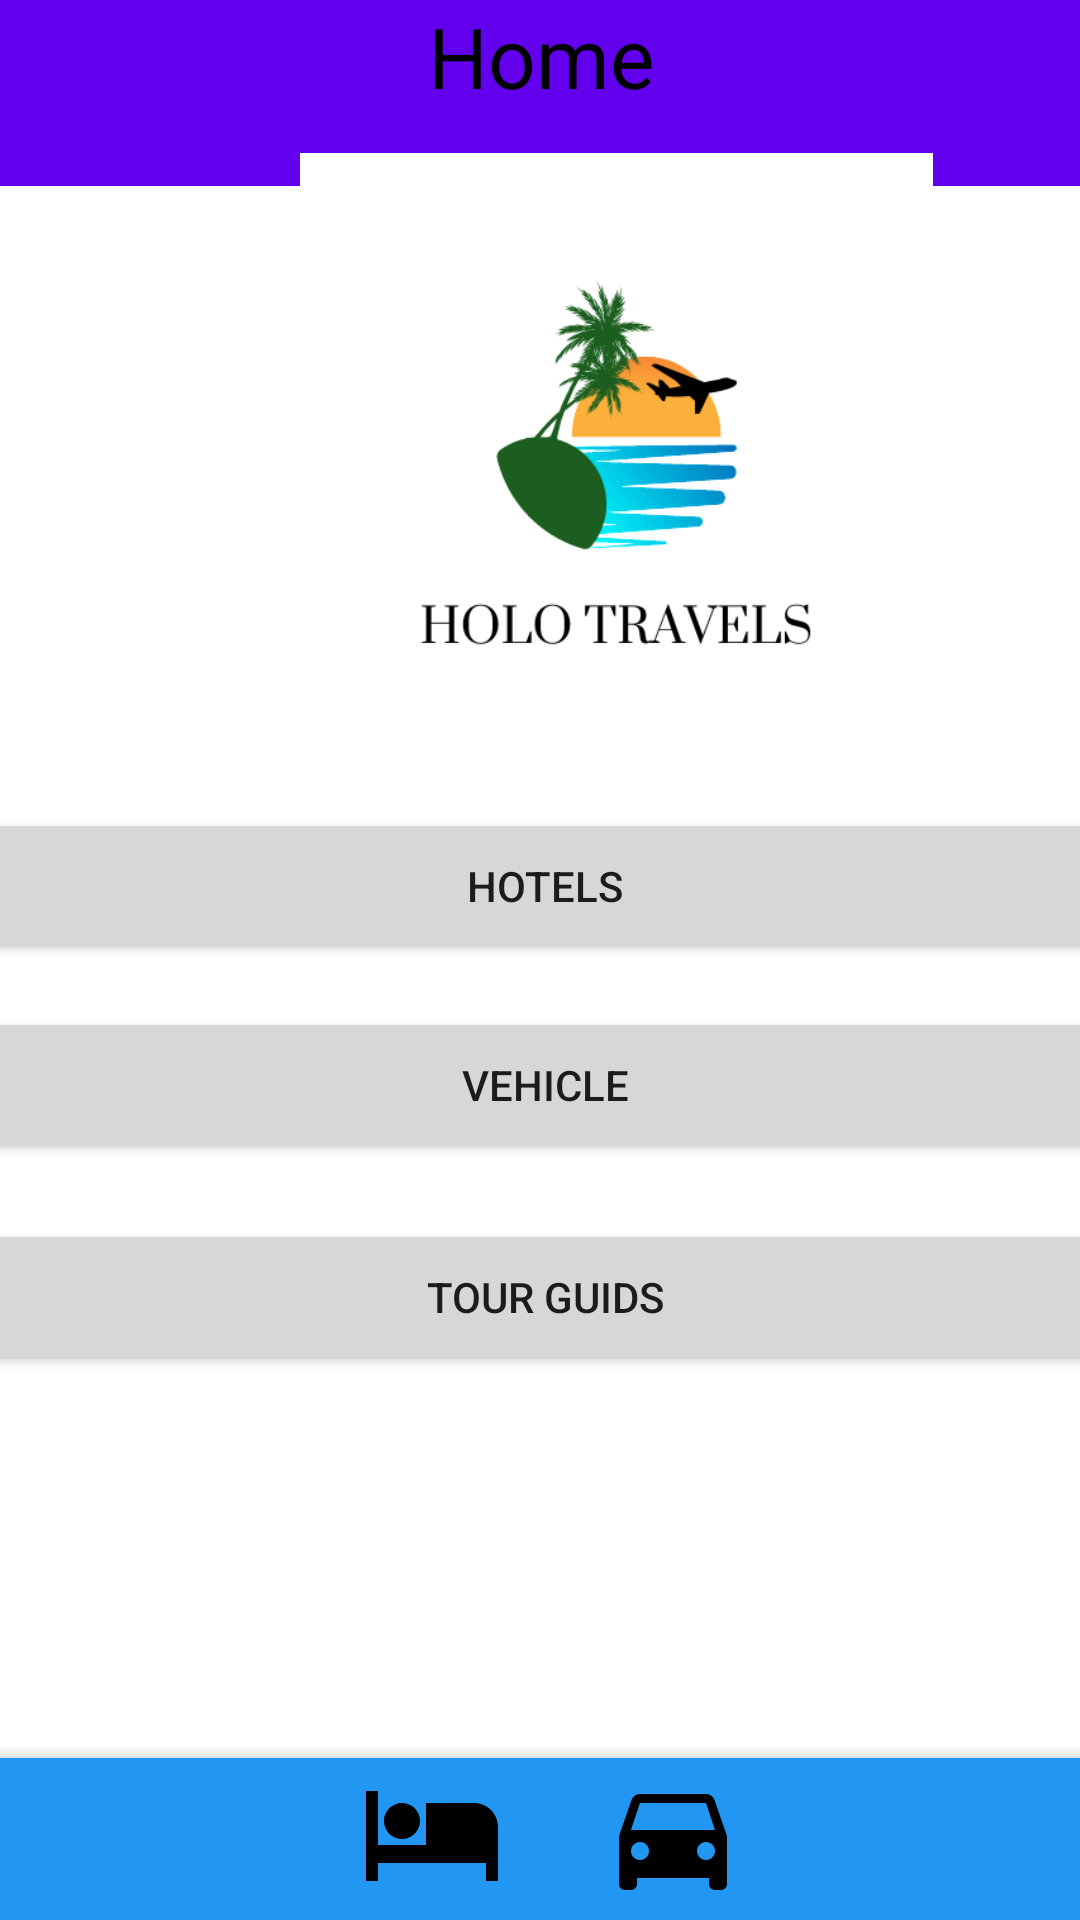

Where icons sit on this 1080 x 1920 app screen, as region(x1, y1, x2, y2):
vehicle: region(619, 1794, 727, 1890)
